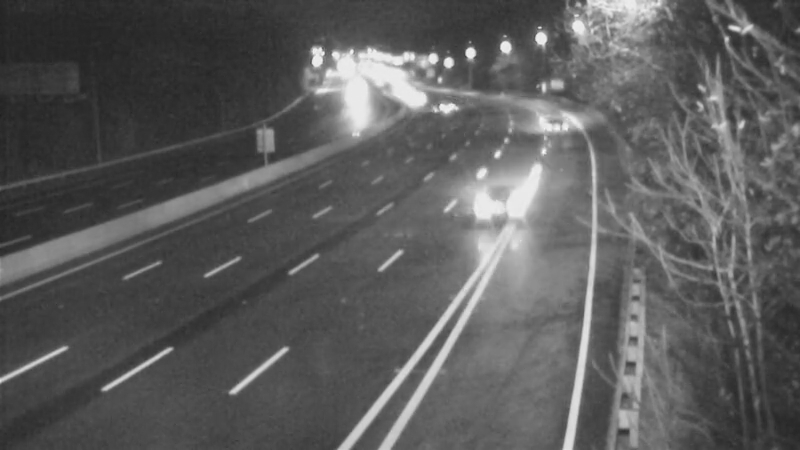vehicle: (457, 157, 537, 237), (417, 81, 467, 131), (529, 94, 579, 144)
